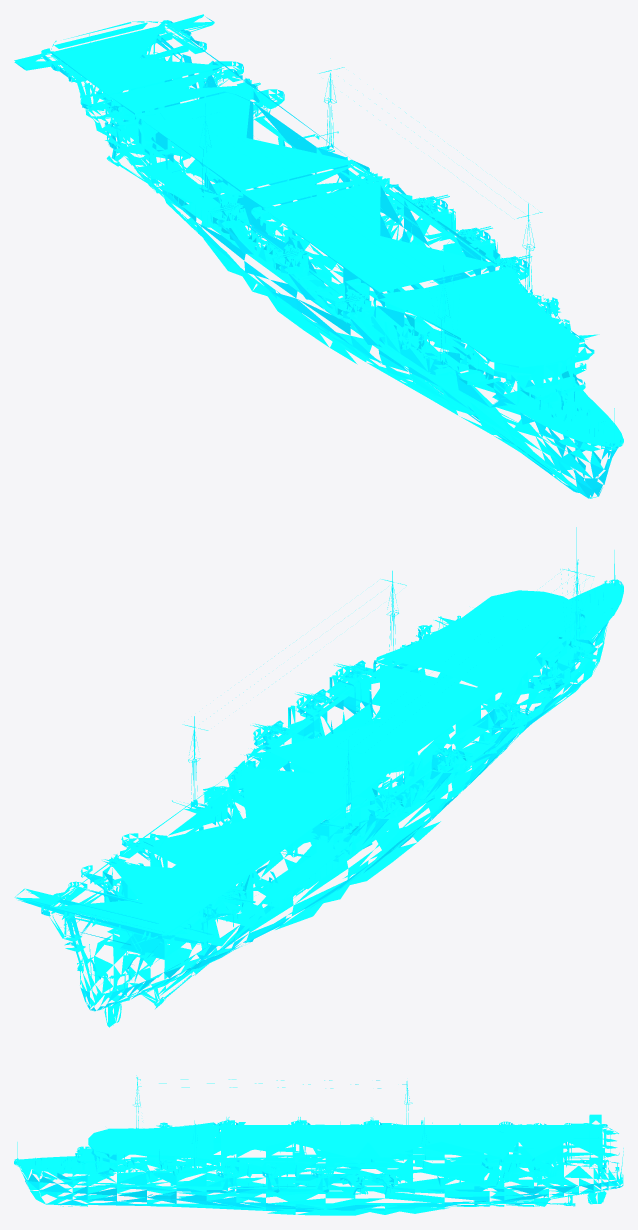
The model's file is PJSA009.glb.
3 views of the same model, one above another, from view 1: azimuth 30°, elevation 25°; view 2: azimuth 150°, elevation 25°; view 3: azimuth 270°, elevation 25° (orthographic). The views are drawn at different scales.
Visible parts, largest first — view 1: hull, turret; view 2: hull, turret; view 3: hull, turret.
Part boxes in pixels (<box>): hull: <box>14,14,623,498</box>; turret: <box>208,194,532,314</box>; hull: <box>14,527,623,1027</box>; turret: <box>250,660,531,812</box>; hull: <box>14,1075,623,1215</box>; turret: <box>220,1117,378,1174</box>.
Bounding box in the file's own units: 2.59 × 2.85 × 12.01.
